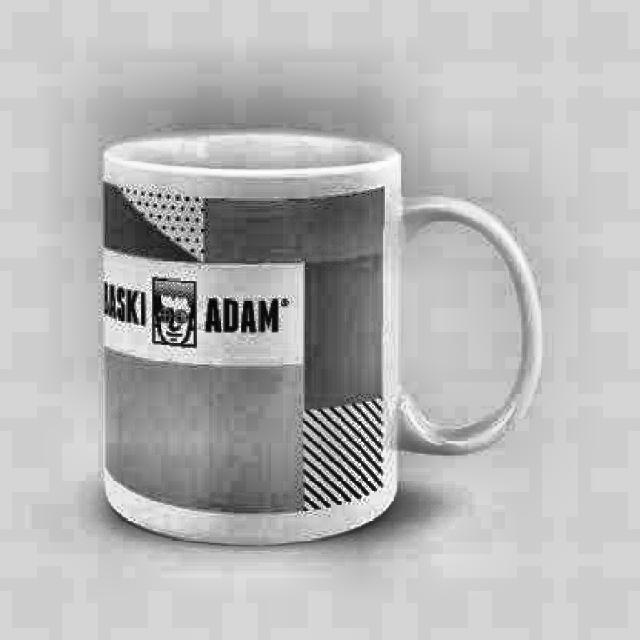Mug: (99, 125, 544, 550)
